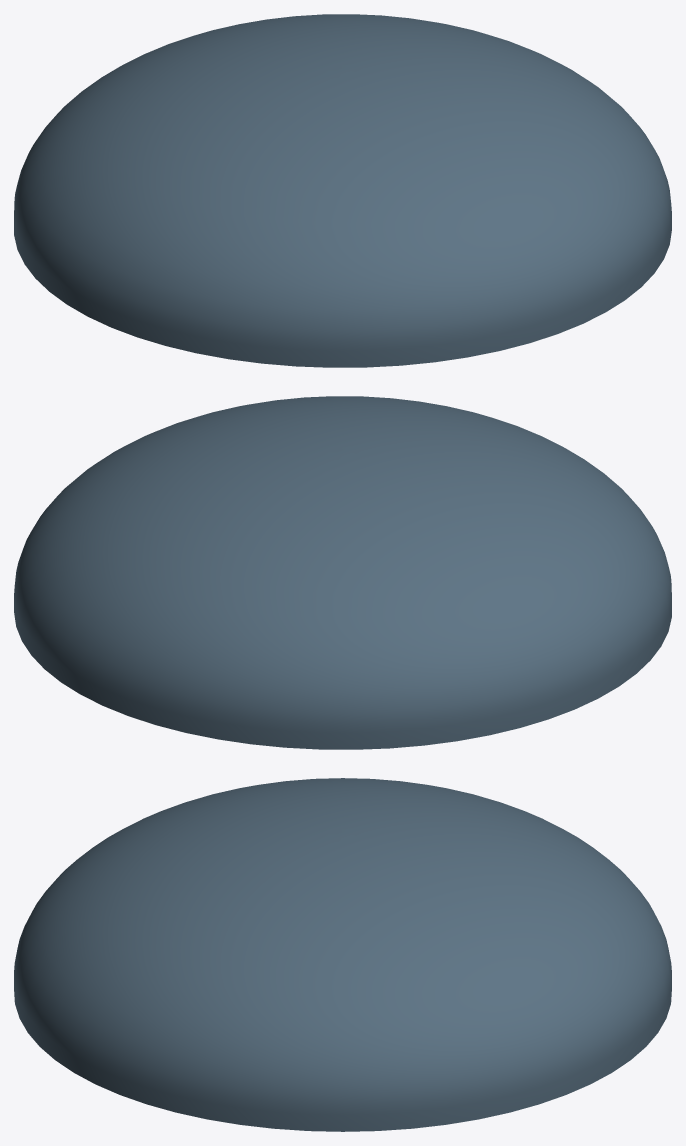
Rendered from dnishche-1420x12.glb.
3 views of the same model, one above another, from view 1: azimuth 30°, elevation 25°; view 2: azimuth 150°, elevation 25°; view 3: azimuth 270°, elevation 25° (orthographic).
Parts seen in each view (by area): view 1: Open CASCADE STEP translator 7.9 32; view 2: Open CASCADE STEP translator 7.9 32; view 3: Open CASCADE STEP translator 7.9 32.
Part boxes in pixels (left/top/right/bottom): Open CASCADE STEP translator 7.9 32: left=14, top=14, right=671, bottom=367; Open CASCADE STEP translator 7.9 32: left=14, top=396, right=671, bottom=749; Open CASCADE STEP translator 7.9 32: left=14, top=778, right=671, bottom=1131.
Size of the model in its own units: 1419 by 375 by 1419.
